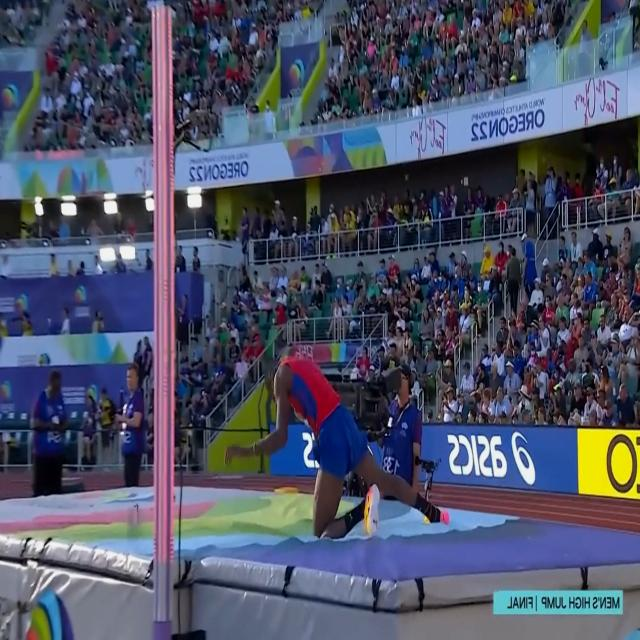land: (226, 330, 450, 535)
